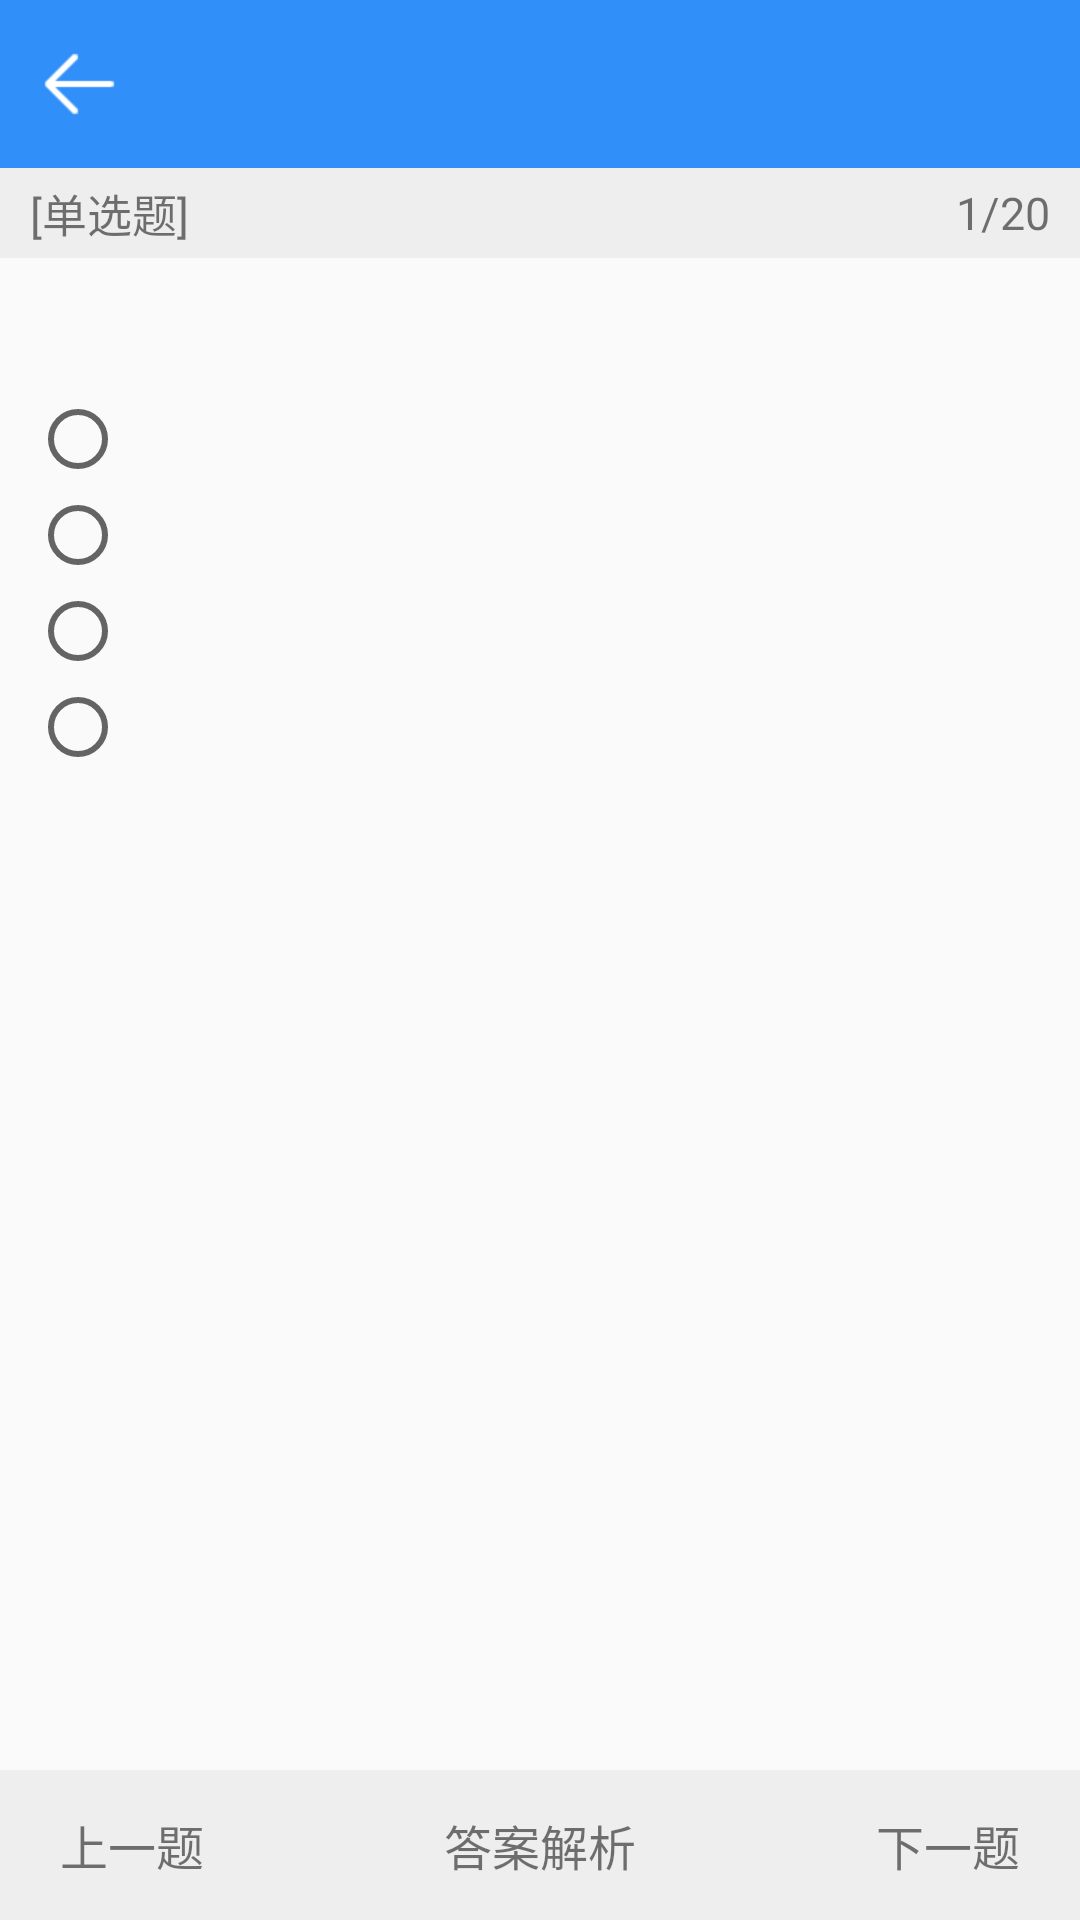

Where to tap for icons on this 1080×1920 app screen, as [x,y]:
back: [79,84]
